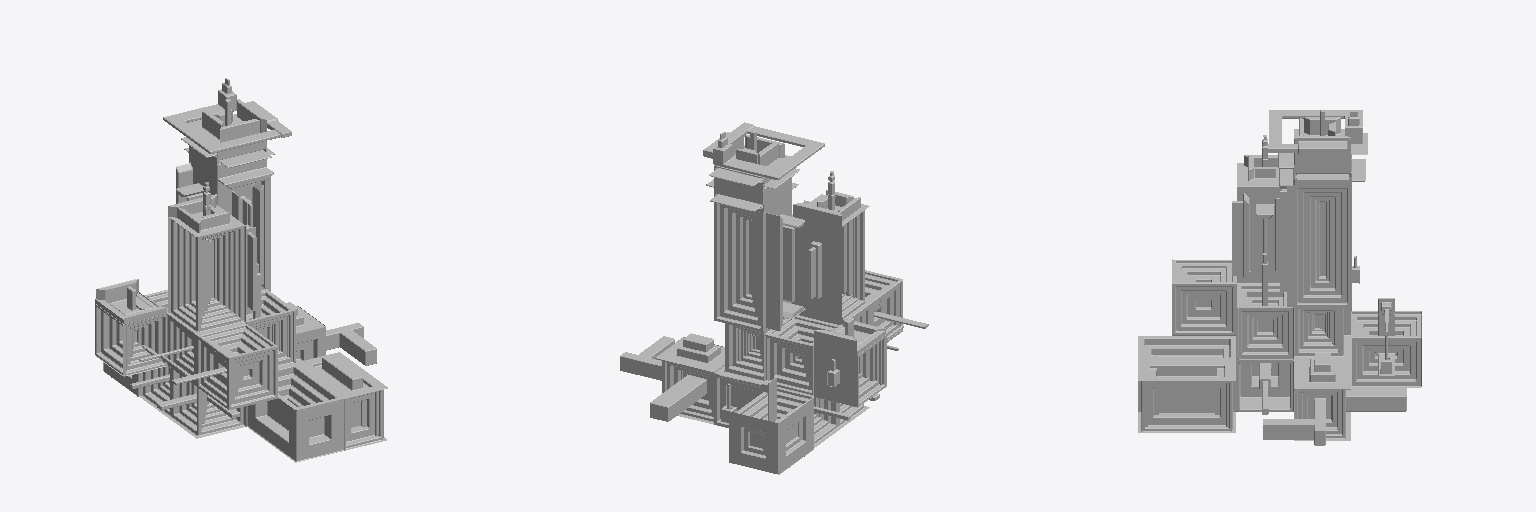
File: City1.obj
The picture shows the model from 3 angles: view 1: azimuth 30°, elevation 25°; view 2: azimuth 150°, elevation 25°; view 3: azimuth 270°, elevation 25°; orthographic projection.
Visible parts, largest first — view 1: City5_3dprint_1; view 2: City5_3dprint_1; view 3: City5_3dprint_1.
Boxes of the visible parts, x1=… form: City5_3dprint_1: x1=95, y1=78, x2=387, y2=462; City5_3dprint_1: x1=620, y1=122, x2=928, y2=474; City5_3dprint_1: x1=1138, y1=110, x2=1421, y2=445.
Bounding box in the file's own units: 1326 × 1492 × 1301.